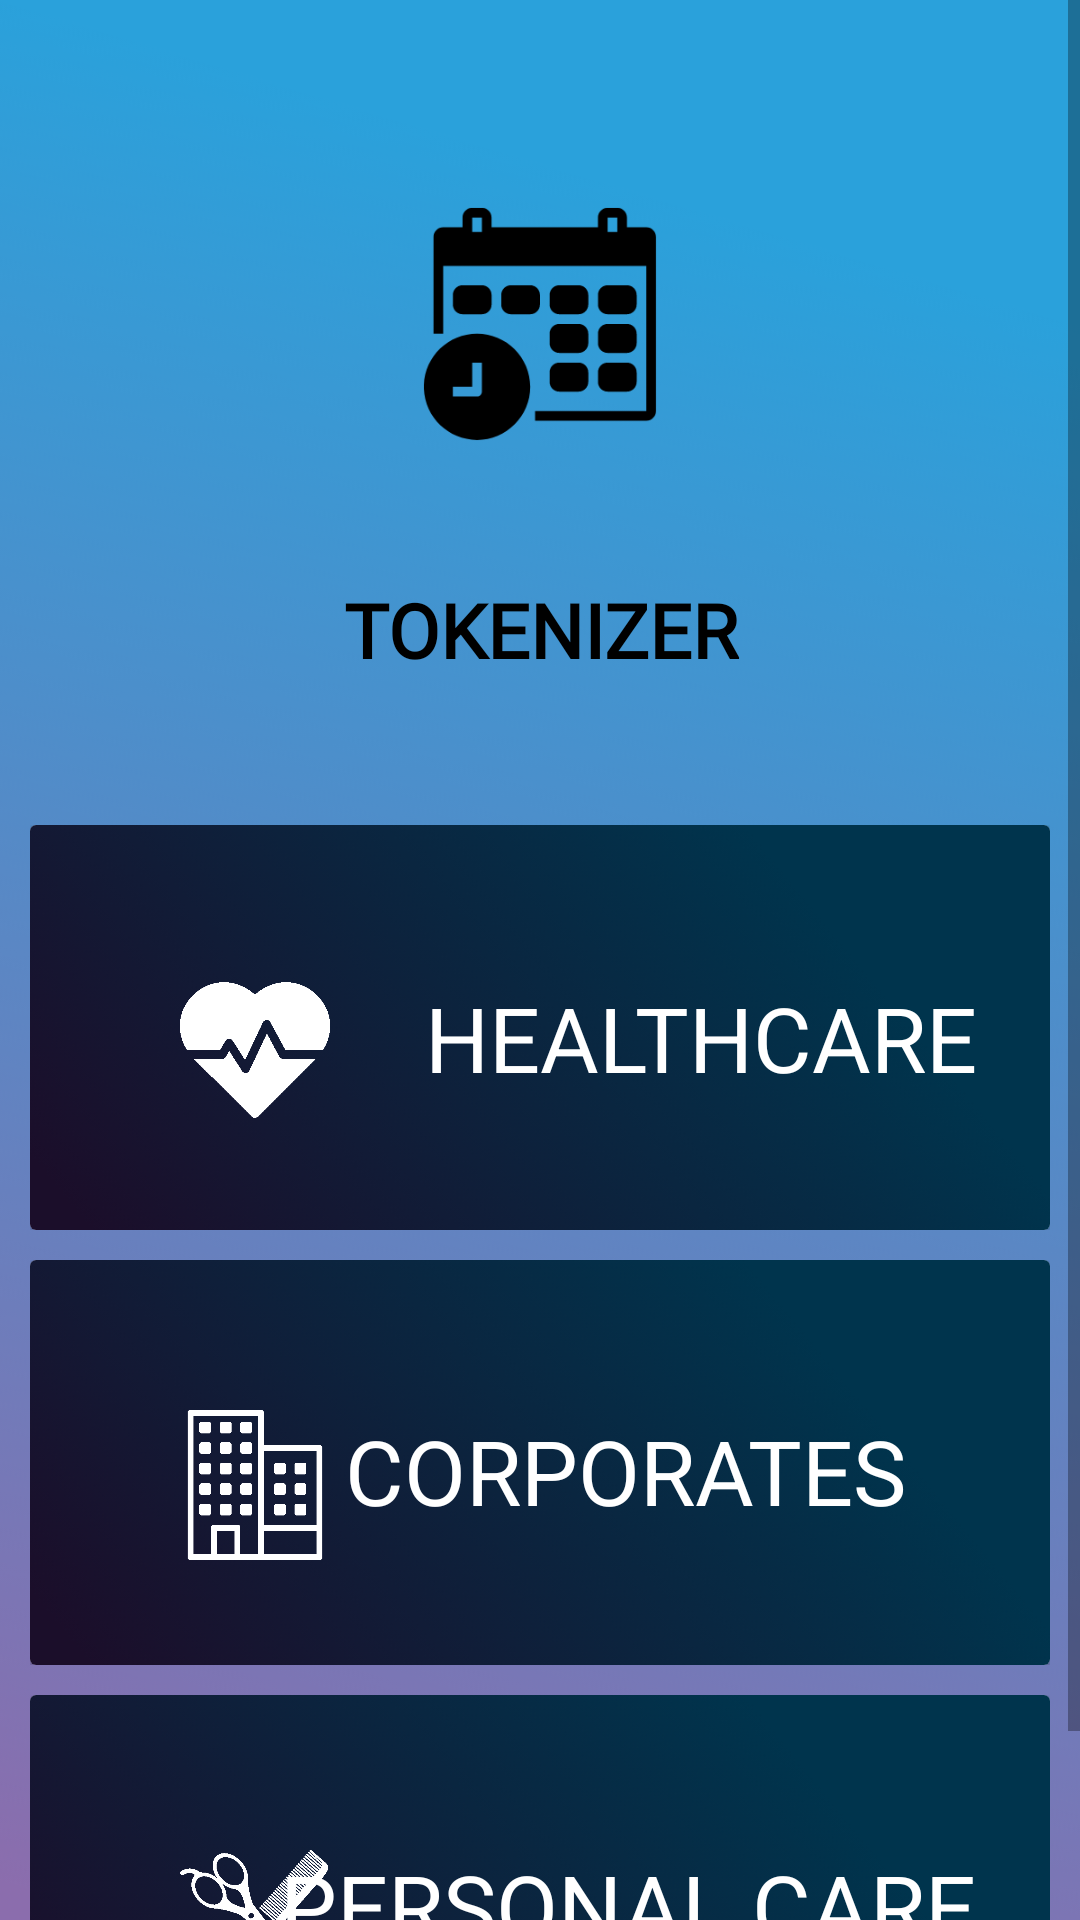

Icon bounding boxes for this 1080w x 1920h phone screenshot, format (x1, y1, x2, y2):
building: (187, 1410, 323, 1560)
